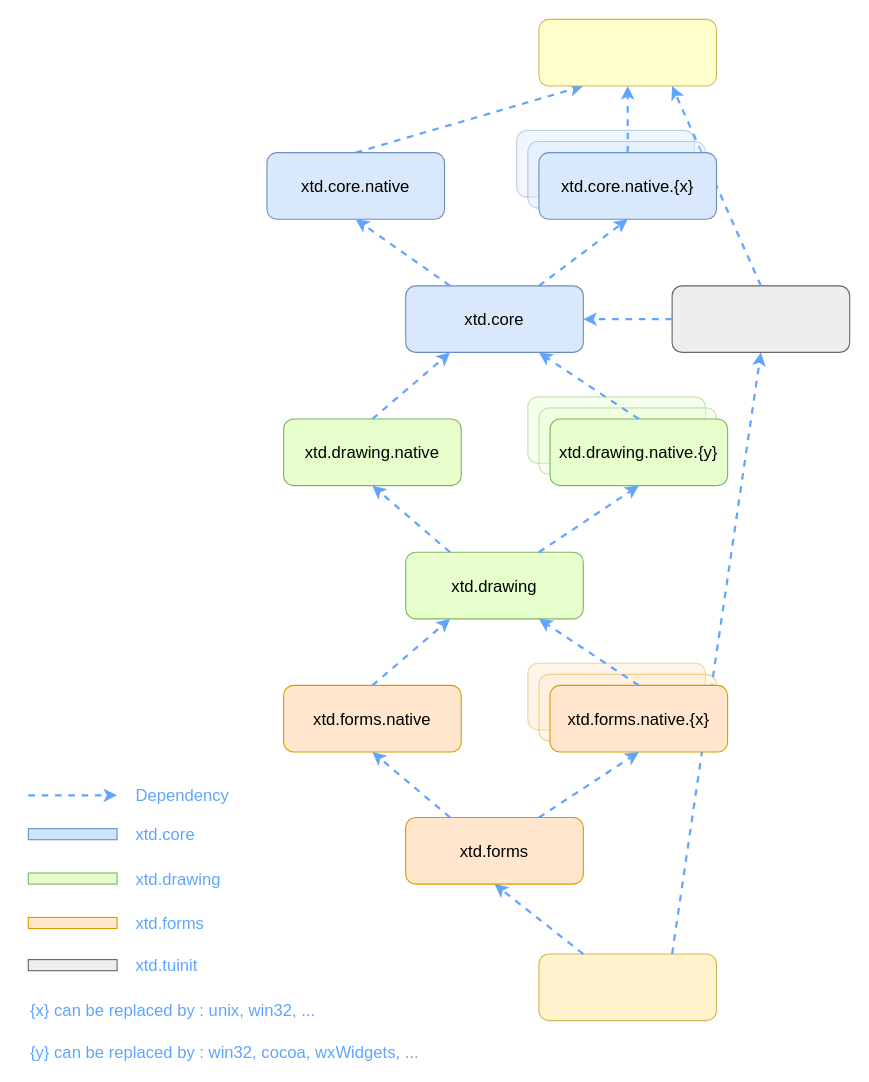
Image size: 869x1082. Some labels were removed from this diagram. The shapes that lost their labels are listed below. From the top down, each one's centre as x and y in pixels, then its label:
At (627,52): "std".
At (760,318): "xtd.tunit".
At (627,987): "xtd".
